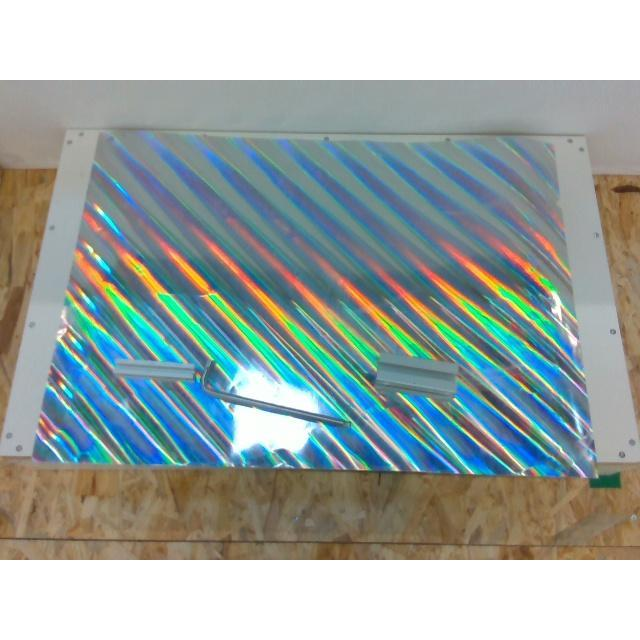AllenKey: (201, 380, 351, 426)
F20_20_G: (113, 359, 199, 379)
S40_40_G: (374, 352, 458, 396)
